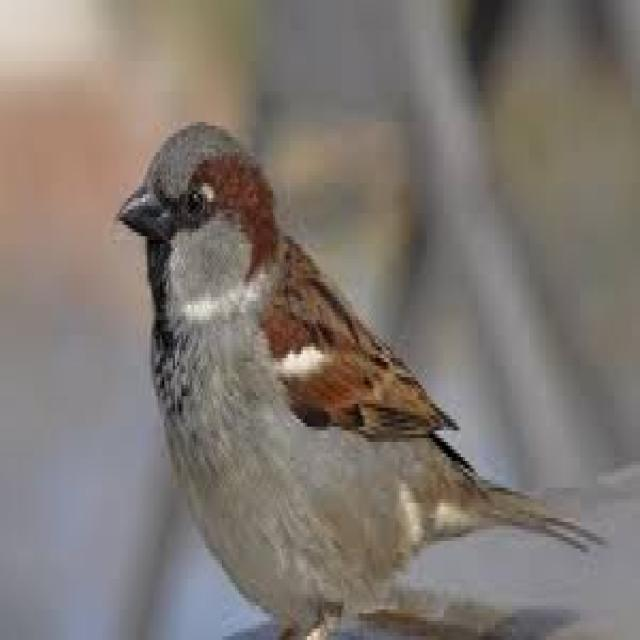Sparrow: (111, 111, 588, 628)
